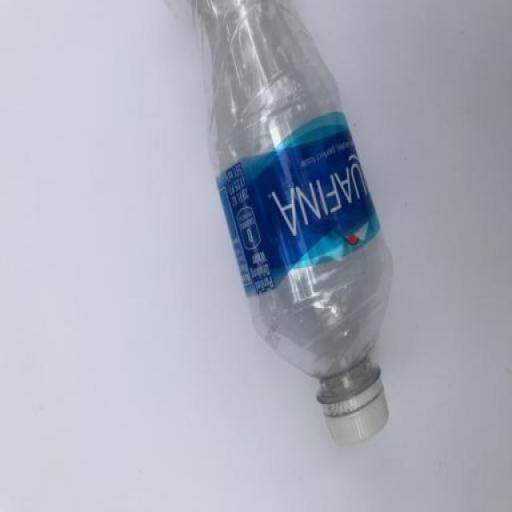plastic: (182, 0, 394, 448)
